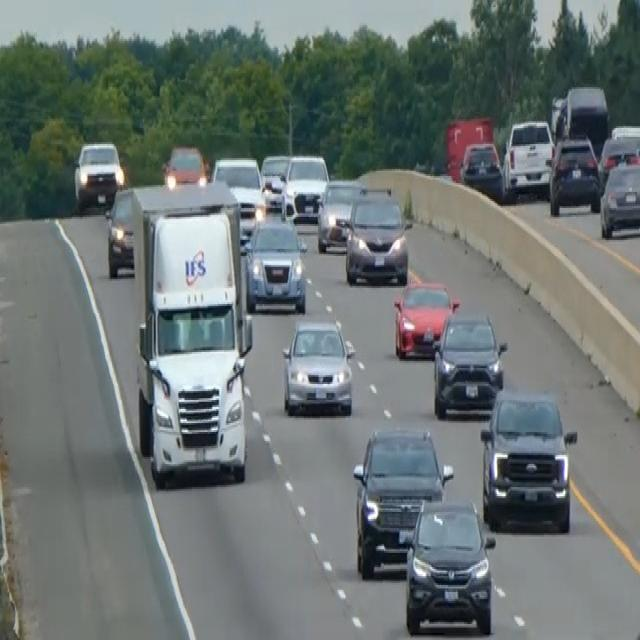bus: (556, 84, 609, 158)
car: (351, 423, 453, 578), (479, 386, 577, 533), (403, 496, 496, 635), (432, 309, 507, 418), (281, 316, 355, 416), (344, 186, 410, 284), (244, 215, 307, 313), (392, 277, 459, 359), (211, 155, 266, 238), (546, 132, 600, 215), (503, 118, 554, 196), (316, 176, 364, 252), (73, 138, 123, 210), (280, 151, 329, 222), (599, 155, 639, 238), (104, 183, 137, 277), (459, 139, 504, 201), (597, 132, 639, 192), (211, 154, 262, 196), (161, 142, 207, 187), (259, 151, 290, 208), (610, 121, 639, 163)
lorry: (128, 178, 254, 487)
